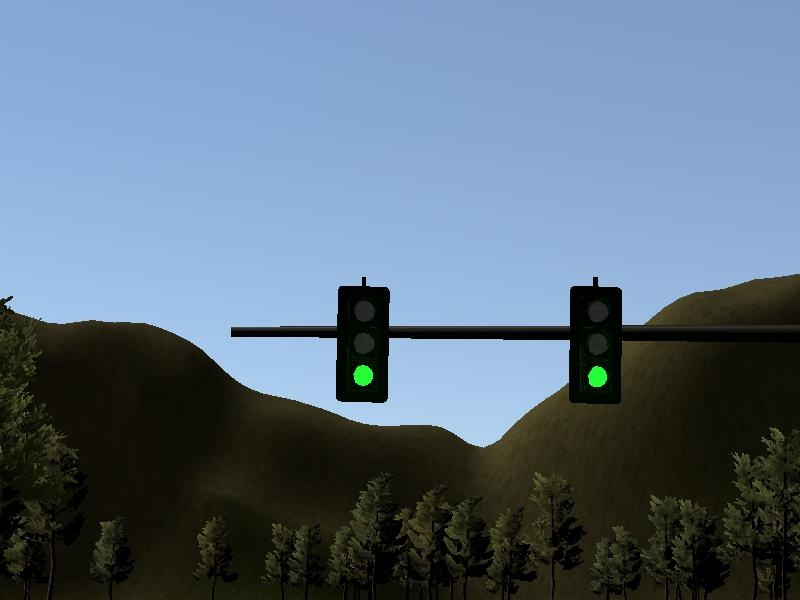green: (334, 283, 391, 405), (566, 282, 623, 404)
